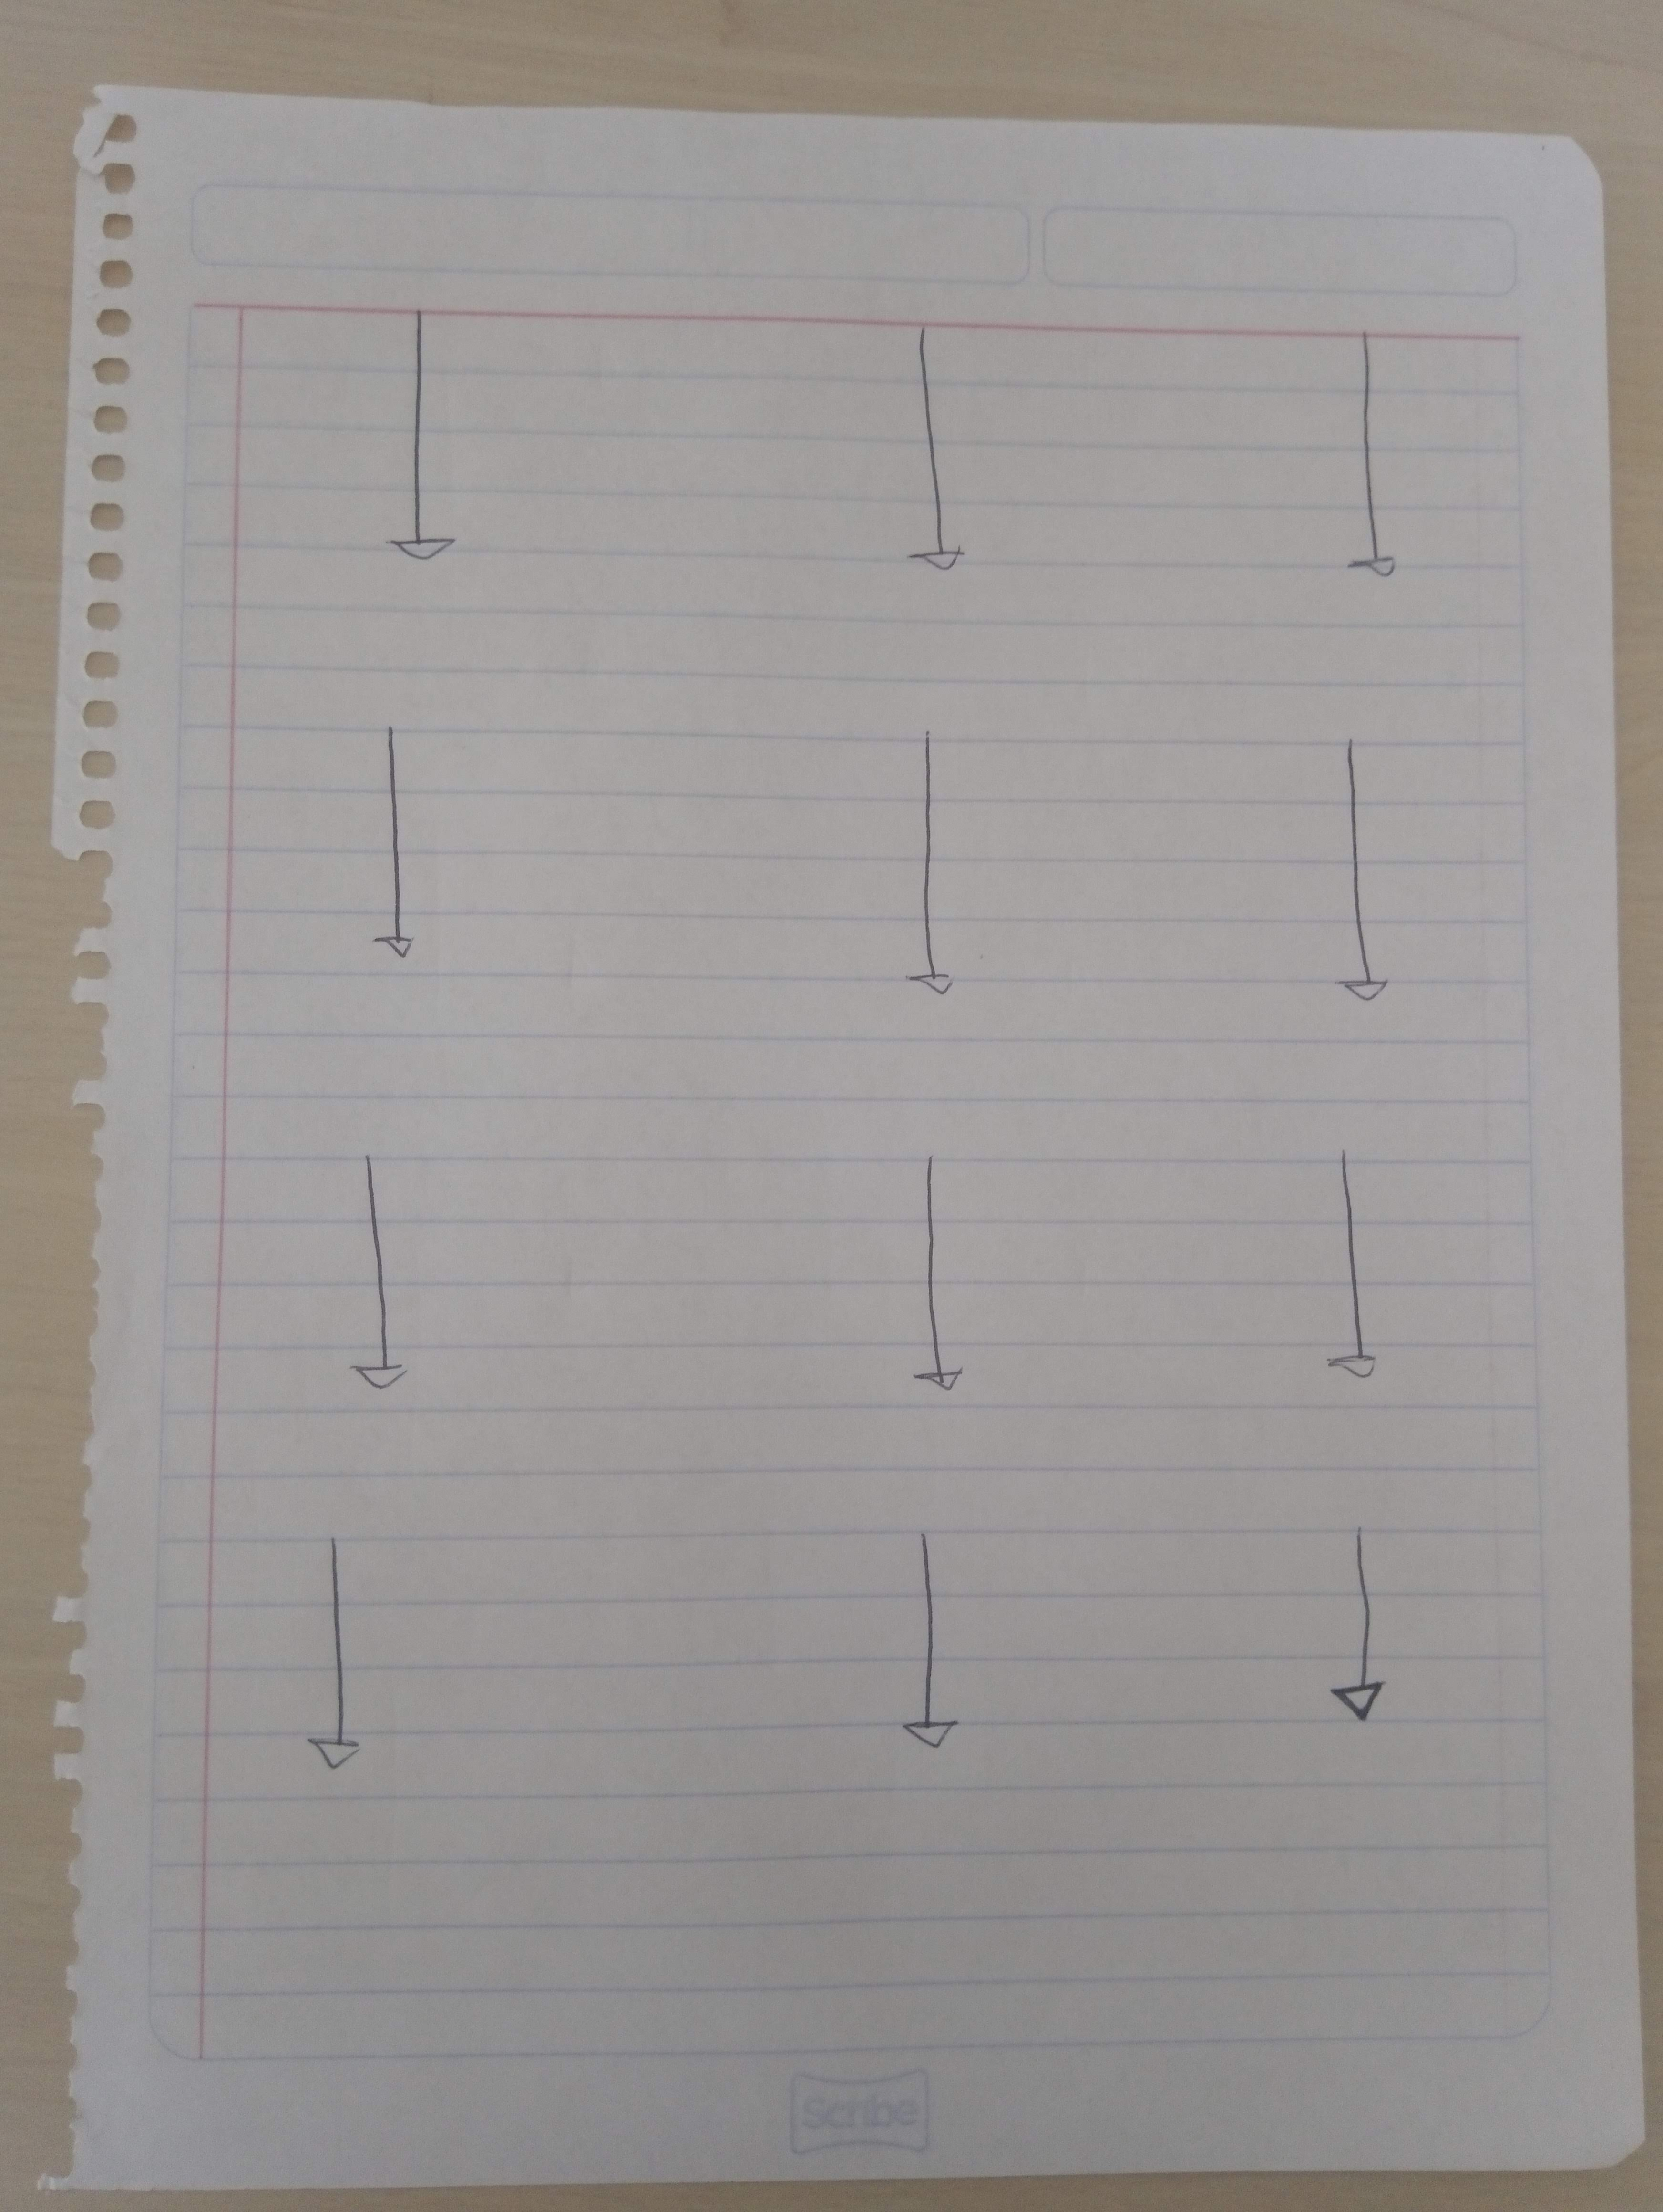arrow_line_down: (269, 1538, 404, 1833), (365, 306, 489, 581), (1312, 744, 1408, 1023), (900, 307, 994, 585), (880, 1151, 989, 1388), (887, 1519, 992, 1760), (1326, 325, 1411, 594), (1312, 1151, 1401, 1388), (330, 1156, 416, 1402), (1319, 1512, 1415, 1728), (360, 709, 431, 988), (889, 732, 959, 995)
